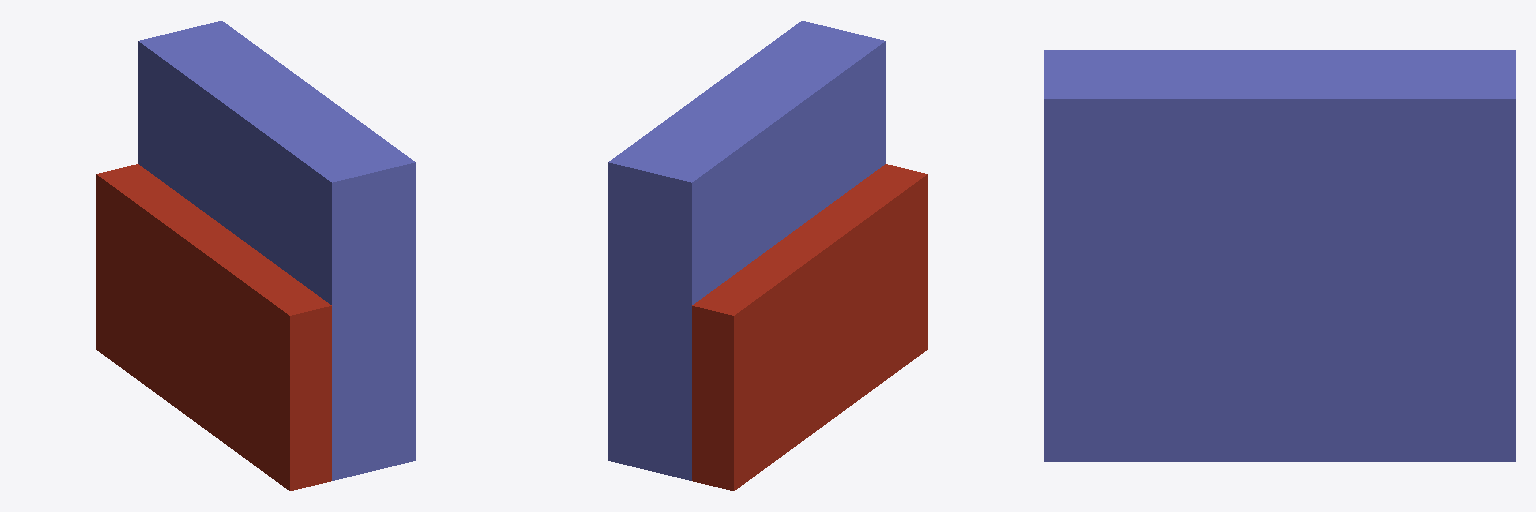
URDF robot description (platform):
<?xml version="1.0" ?>
<robot name="platform">
  <link name="base_link" />

    <link name="platform2">
    <visual>
      <geometry>
        <mesh filename="package://mc_env_description/meshes/platform/platform2.stl" />
      </geometry>
      <material name="Platform2">
        <color rgba="0.4626903533935547 0.4890856444835663 0.800000011920929 1" />
      </material>
    </visual>

  </link>
  <joint name="platform2" type="fixed">
    <parent link="base_link" />
    <child link="platform2" />
    <origin rpy="0.0 0.0 0.0" xyz="1.5 0.0 1.059999942779541" />
  </joint>

  <link name="platform1">
    <visual>
      <geometry>
        <mesh filename="package://mc_env_description/meshes/platform/platform1.stl" />
      </geometry>
      <material name="Platform1">
        <color rgba="0.7230302691459656 0.2594449818134308 0.17624002695083618 1" />
      </material>
    </visual>

  </link>
  <joint name="platform1" type="fixed">
    <parent link="base_link" />
    <child link="platform1" />
    <origin rpy="0.0 0.0 0.0" xyz="0.75 0.0 0.3999999761581421" />
  </joint>

  <link name="ground">
    <visual>
      <geometry>
        <mesh filename="package://mc_env_description/meshes/platform/ground.stl" />
      </geometry>
      <material name="Ground">
        <color rgba="0.963704526424408 1.0 0.26654547452926636 1" />
      </material>
    </visual>

  </link>
  <joint name="ground" type="fixed">
    <parent link="base_link" />
    <child link="ground" />
    <origin rpy="0.0 0.0 0.0" xyz="-2.0 0.0 -0.10000000149011612" />
  </joint>

</robot>

--- Render facts (derived) ---
Views: 3 orthographic renders of the robot side by side, from view 1: azimuth 30°, elevation 25°; view 2: azimuth 150°, elevation 25°; view 3: azimuth 270°, elevation 25°.
Robot: platform — 4 links, 3 joints (3 fixed); root link base_link; default pose: every joint at zero.
Visible links, largest first — view 1: platform2, platform1; view 2: platform2, platform1; view 3: platform2.
Boxes of the visible links, box(x1,y1,x2,y2) form: platform2: box(138, 21, 415, 480); platform1: box(96, 164, 331, 490); platform2: box(608, 21, 885, 480); platform1: box(692, 164, 927, 490); platform2: box(1044, 50, 1515, 461).
Bounding box of the posed robot: 1.5 × 4 × 3.4 m (x, y, z).
Meshes: 3 distinct files referenced, 2 mesh visuals loaded (2 binary STL); not drawn: 1 (reference not matched to a file when rendering).